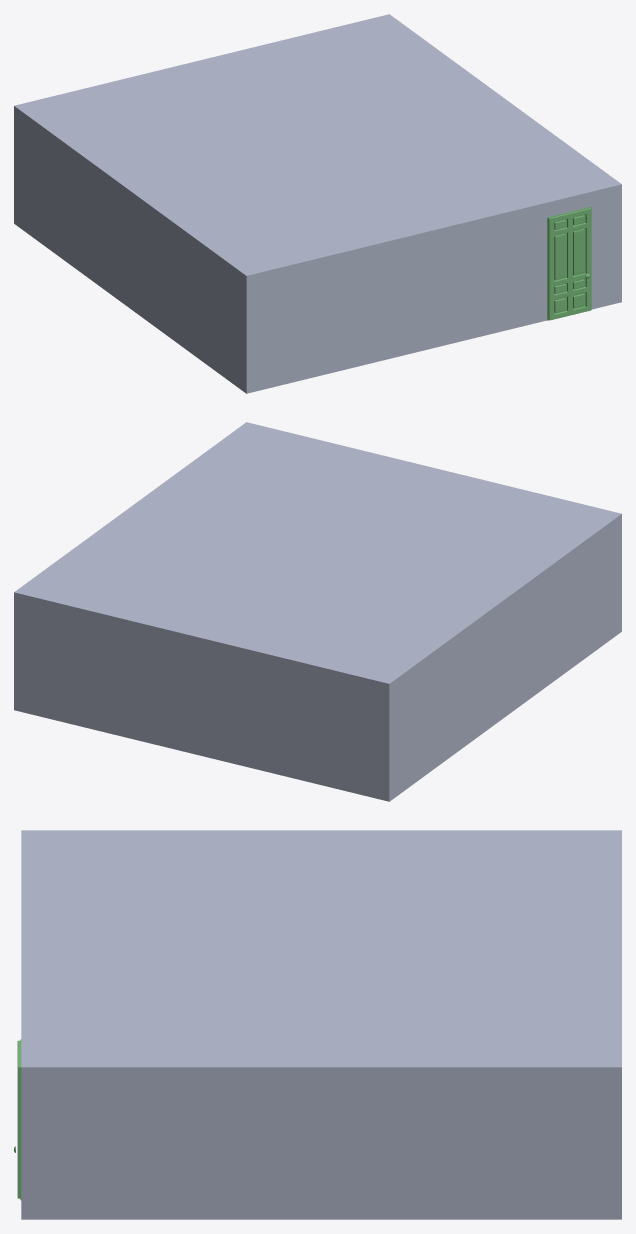
The model's file is Room 7.glb.
3 views of the same model, one above another, from view 1: azimuth 30°, elevation 25°; view 2: azimuth 150°, elevation 25°; view 3: azimuth 270°, elevation 25° (orthographic). The views are drawn at different scales.
Parts seen in each view (by area): view 1: Mesh_Mesh_head_geo.001_lambert2SG.001; view 2: Mesh_Mesh_head_geo.001_lambert2SG.001; view 3: Mesh_Mesh_head_geo.001_lambert2SG.001.
Boxes of the visible parts, x1,y1,x2,y2 form: Mesh_Mesh_head_geo.001_lambert2SG.001: (14, 14, 621, 393); Mesh_Mesh_head_geo.001_lambert2SG.001: (14, 422, 621, 801); Mesh_Mesh_head_geo.001_lambert2SG.001: (14, 830, 621, 1219).
Bounding box in the file's own units: 40 × 12 × 43.41.
